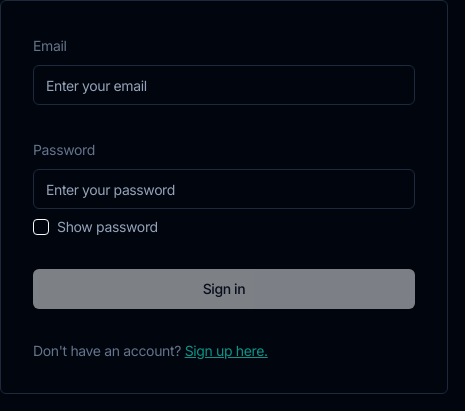
it: SignIn › removes the disabled state of Sign In button when both Email and Password input fields are filled
The image size is (465, 411).
In the field labelled "Email": x=224, y=85 [33, 65, 415, 105], type "test@gmail.com"
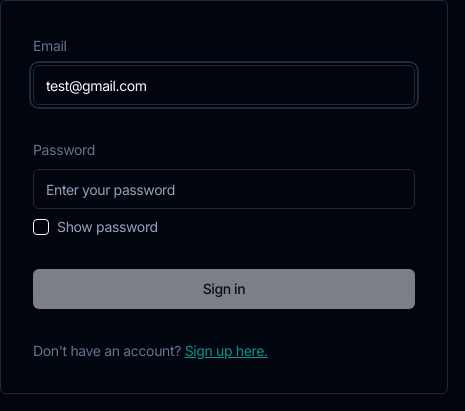
In the password field labelled "Password": x=224, y=189 [33, 169, 415, 209], type "testpassword"
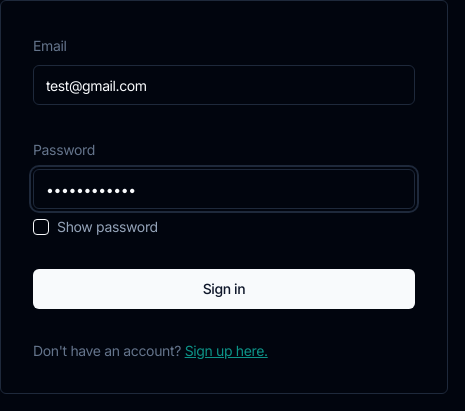
Expected: the button "Sign in" is enabled, [33, 269, 415, 309]
